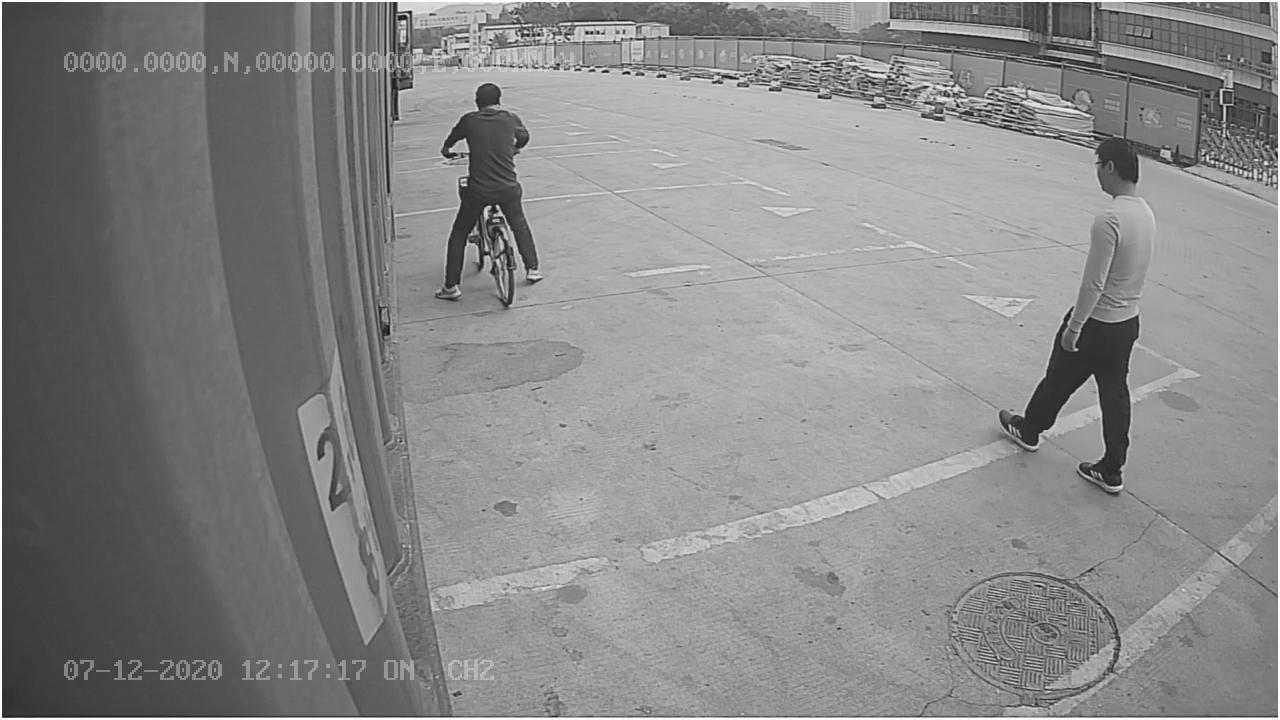person: (992, 127, 1159, 494)
